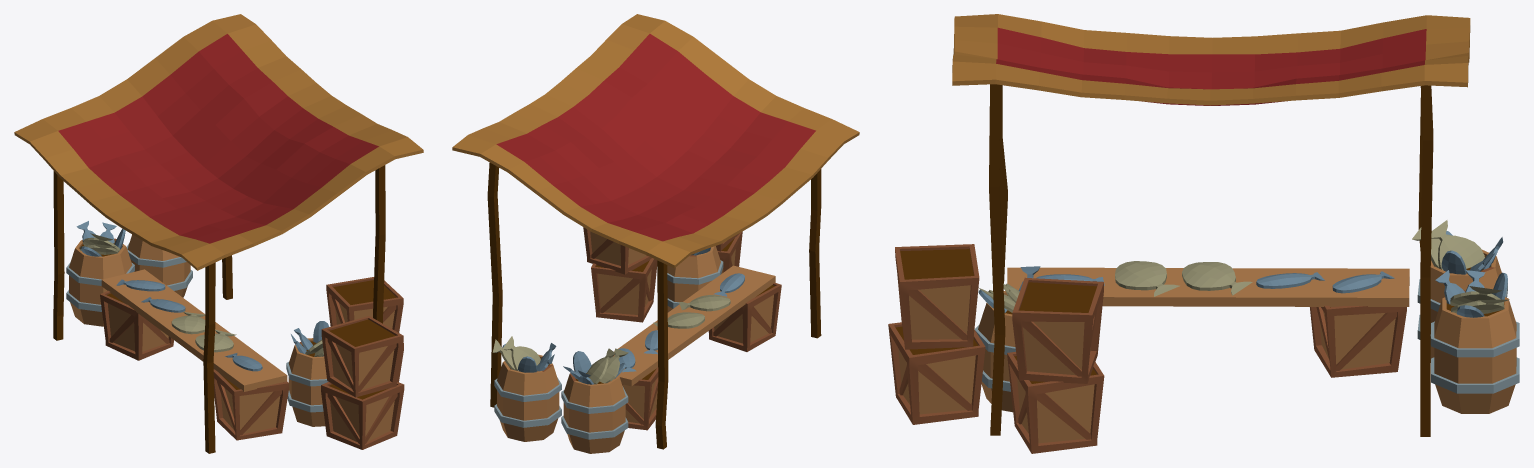
The model's file is Store 4.glb.
3 renders of one model, left to right at view 1: azimuth 30°, elevation 25°; view 2: azimuth 150°, elevation 25°; view 3: azimuth 270°, elevation 25°, orthographic. The views are drawn at different scales.
Parts seen in each view (by area): view 1: stall2; view 2: stall2; view 3: stall2.
Boxes of the visible parts, left/top/right/bottom form: stall2: left=14, top=14, right=423, bottom=453; stall2: left=452, top=14, right=859, bottom=453; stall2: left=888, top=14, right=1519, bottom=453.
Bounding box in the file's own units: 4.3 × 4.74 × 7.21.
